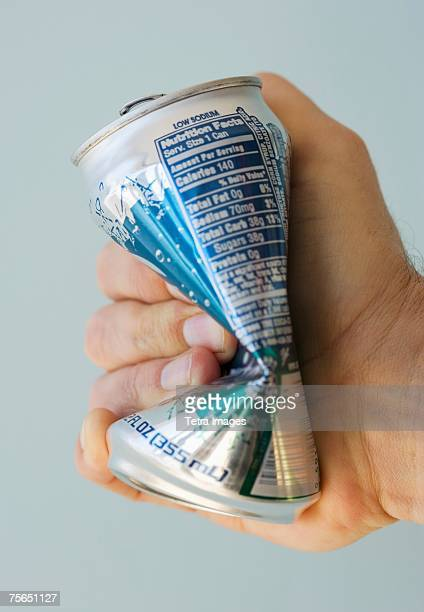can: (68, 74, 321, 527)
